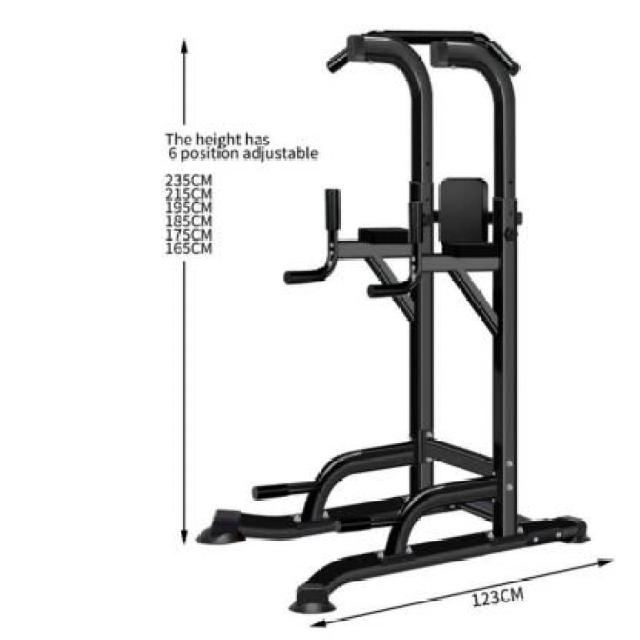chinning dipping: (202, 26, 592, 612)
